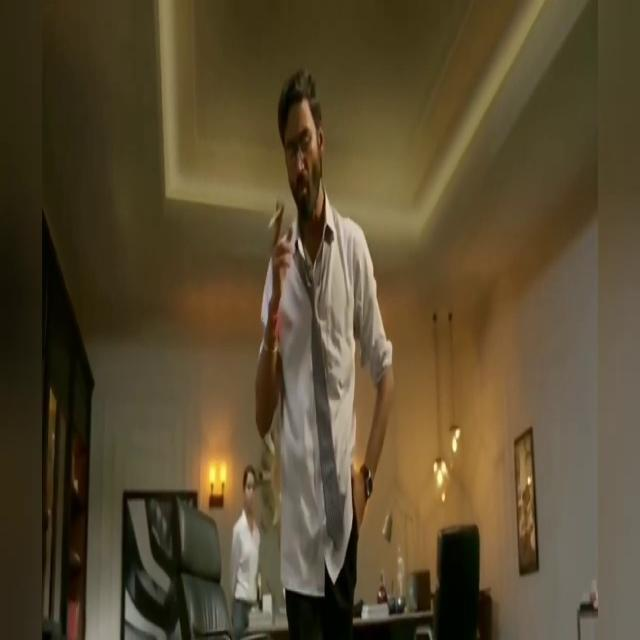smoking: (279, 191, 303, 226)
